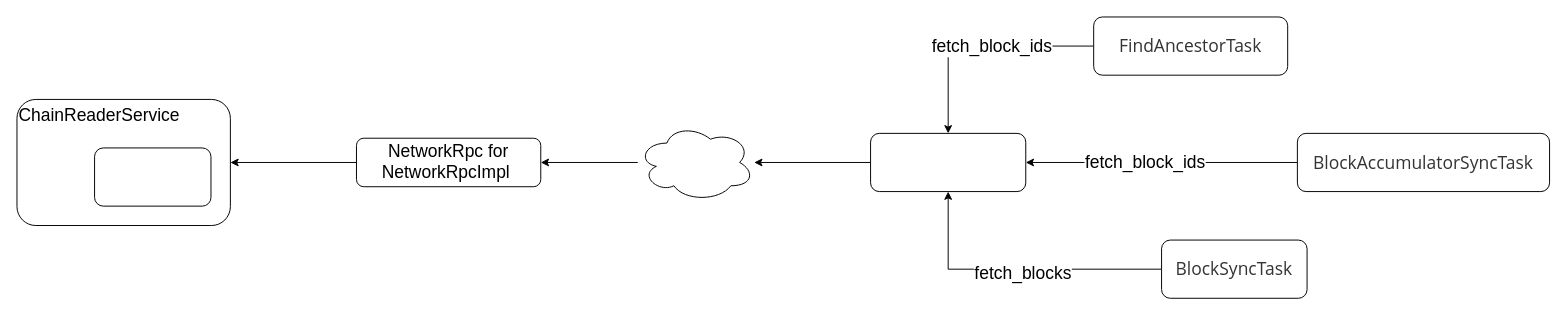
Some shapes in this 1567 by 315 pixel diagram are drawn without their labels. The shapes that lost their labels are listed below. From the top down, each one's centre as x and y in pixels, then its label:
(x=152, y=176): BlockChain
(x=695, y=162): p2p
(x=948, y=162): VerifiedRpcClient
